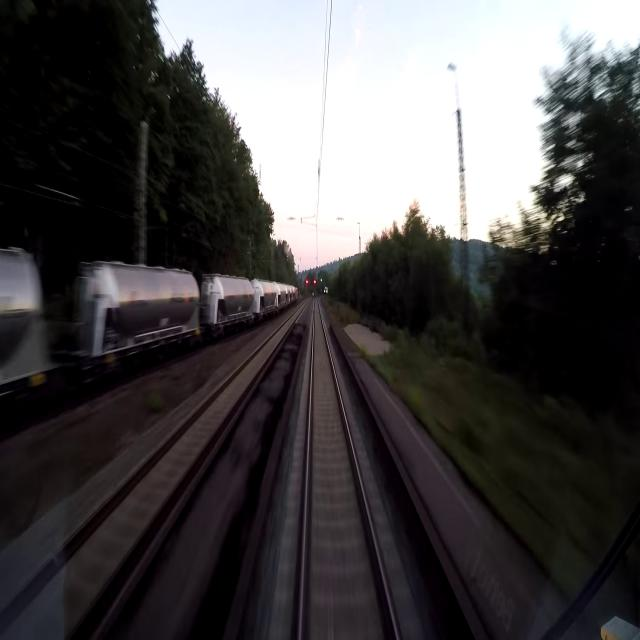rail-track: (0, 302, 306, 639), (302, 301, 395, 639)
